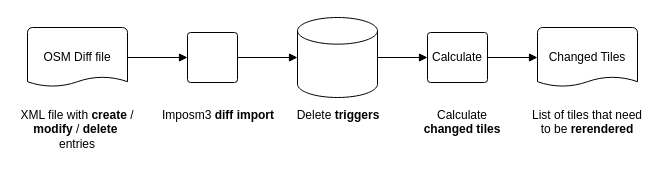
Some shapes in this 664 by 177 pixel diagram are drawn without their labels. The shapes that lost their labels are listed below. From the top down, each one's centre as x and y in pixels, then its label:
At [212,57]: "Import".
At [337,57]: "PostGIS".
